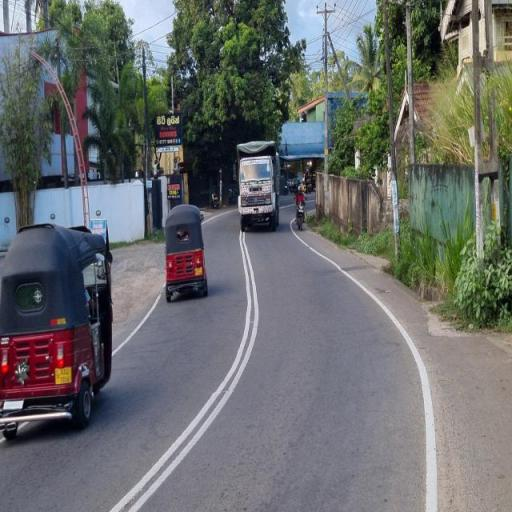double_white_line: (110, 232, 261, 510)
